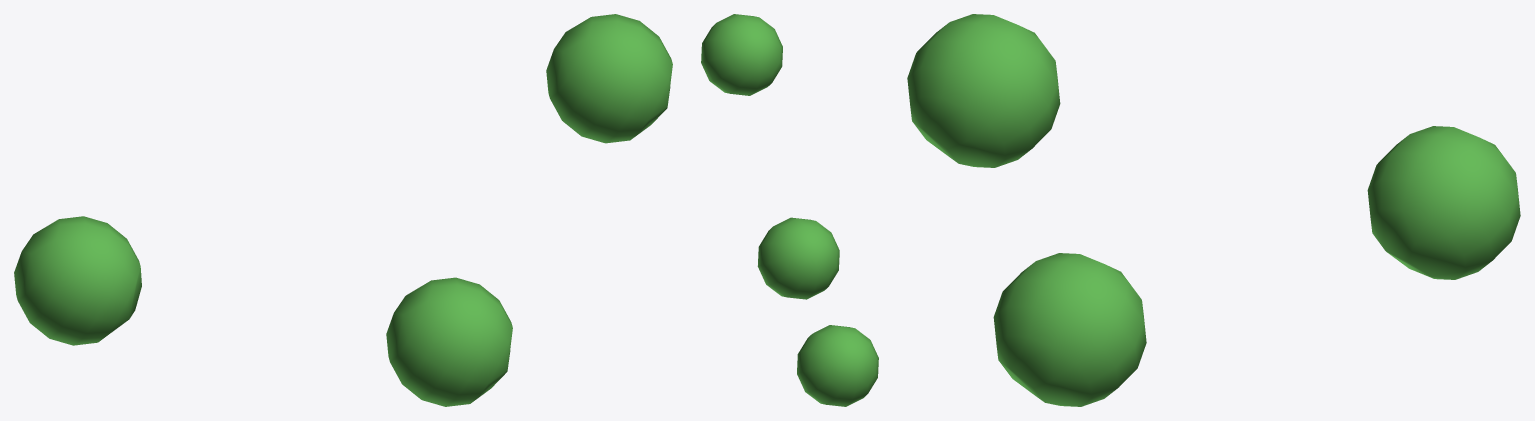
The model's file is linfatico-superficial-parotid-nodes-l.glb.
3 views of the same model, side by side, from view 1: azimuth 30°, elevation 25°; view 2: azimuth 150°, elevation 25°; view 3: azimuth 270°, elevation 25° (orthographic). The views are drawn at different scales.
Parts seen in each view (by area): view 1: Superficial parotid nodes.l; view 2: Superficial parotid nodes.l; view 3: Superficial parotid nodes.l.
Part boxes in pixels (bbox=[...]): Superficial parotid nodes.l: bbox=[14, 14, 672, 406]; Superficial parotid nodes.l: bbox=[701, 14, 878, 406]; Superficial parotid nodes.l: bbox=[907, 14, 1520, 406].
Bounding box in the file's own units: 0.0105 × 0.00832 × 0.0102.
